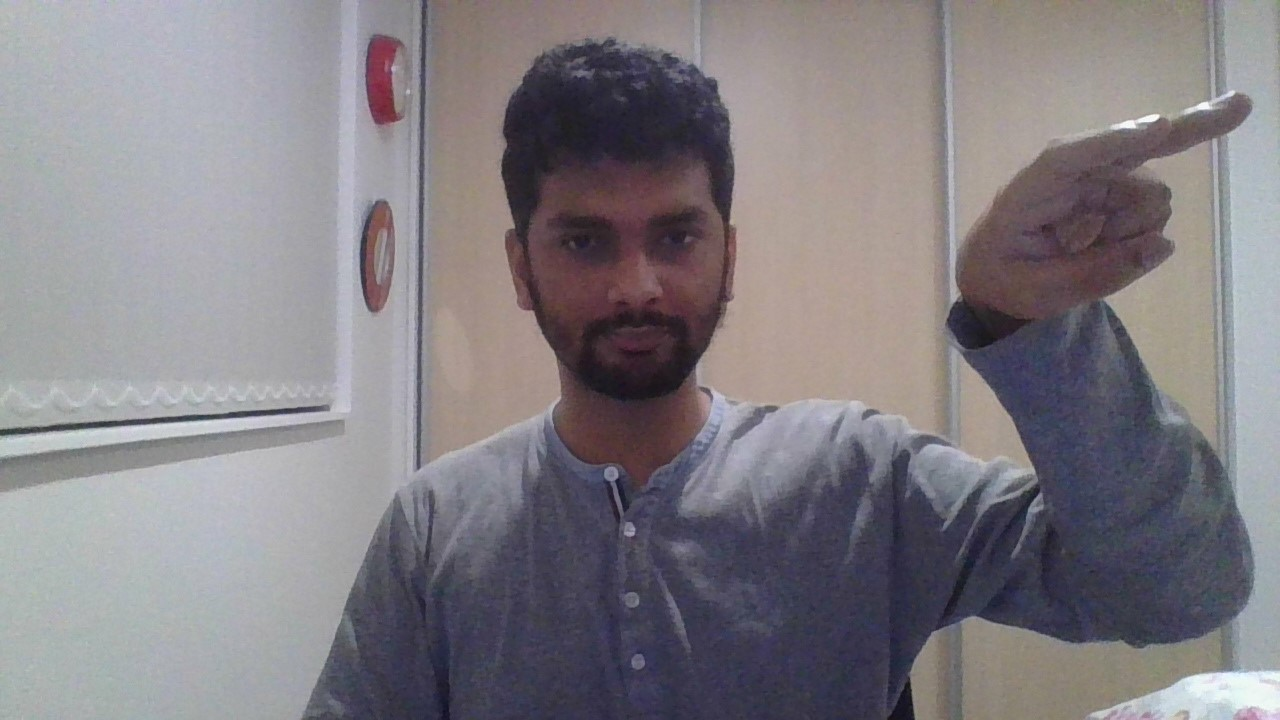look_around: (956, 90, 1251, 320)
